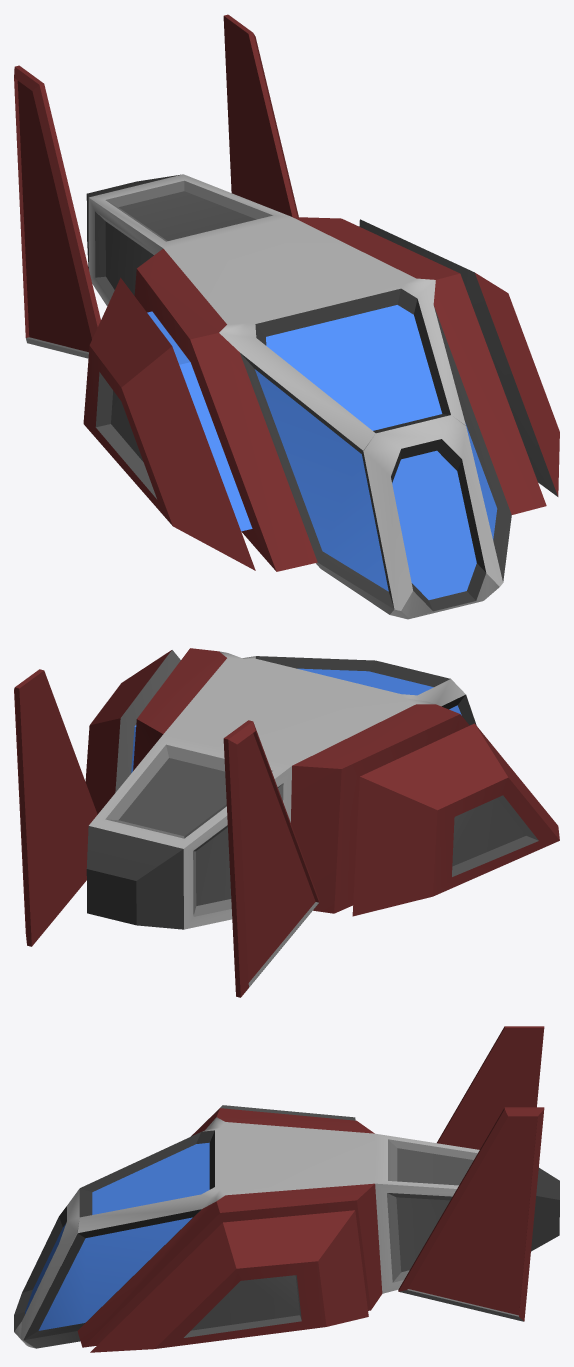
The model's file is Ship_2x3_A2.fbx.
3 renders of one model, top to bottom at view 1: azimuth 30°, elevation 25°; view 2: azimuth 150°, elevation 25°; view 3: azimuth 270°, elevation 25°, orthographic. The views are drawn at different scales.
Visible parts, largest first — view 1: Ship_2x3_A2; view 2: Ship_2x3_A2; view 3: Ship_2x3_A2.
Part boxes in pixels (<box>): Ship_2x3_A2: <box>14,14,559,619</box>; Ship_2x3_A2: <box>14,648,559,997</box>; Ship_2x3_A2: <box>14,1026,559,1352</box>.
Bounding box in the file's own units: 181 × 149 × 278.
